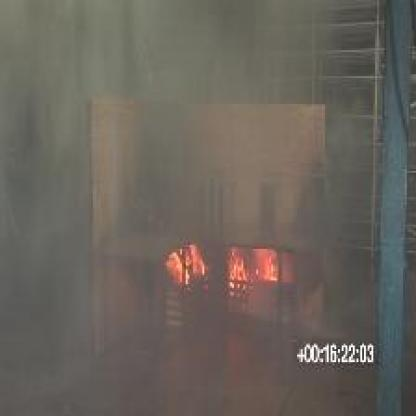fire: (225, 240, 299, 292), (161, 242, 206, 284)
